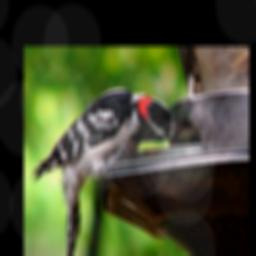Woodpecker: (29, 86, 182, 256)
